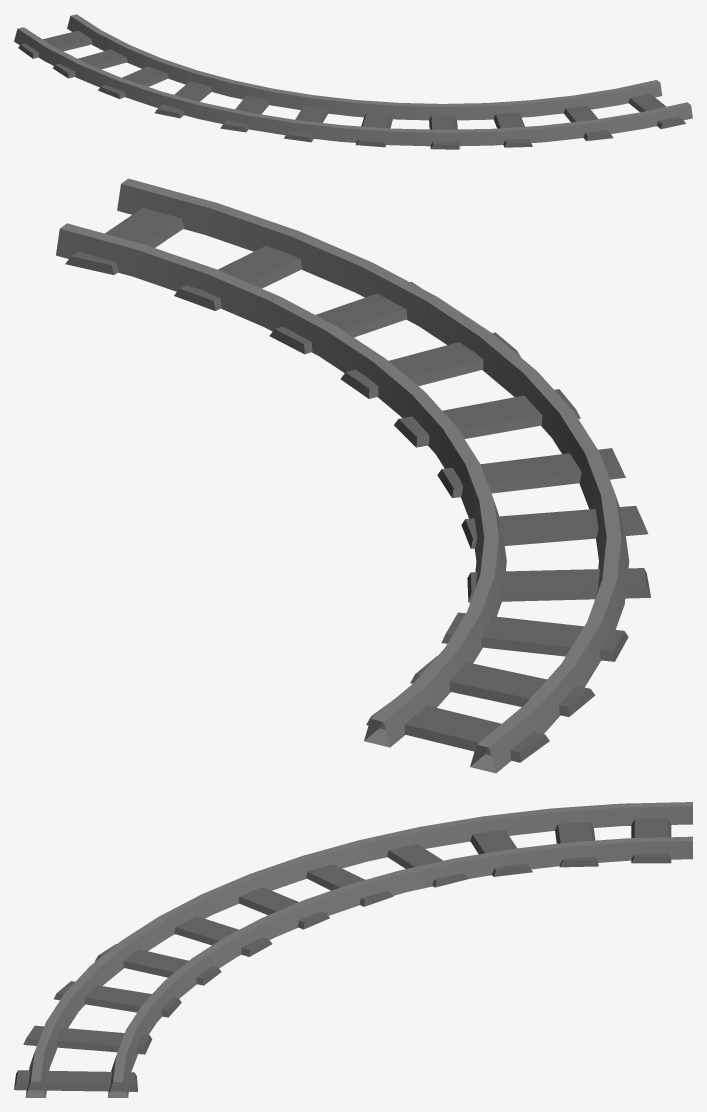
The model's file is Ray_Curve_02.fbx.
3 renders of one model, top to bottom at view 1: azimuth 30°, elevation 25°; view 2: azimuth 150°, elevation 25°; view 3: azimuth 270°, elevation 25°, orthographic. The views are drawn at different scales.
Parts seen in each view (by area): view 1: Ray_Curve_02; view 2: Ray_Curve_02; view 3: Ray_Curve_02.
Boxes of the visible parts, x1=… form: Ray_Curve_02: x1=14, y1=14, x2=692, y2=149; Ray_Curve_02: x1=56, y1=178, x2=650, y2=773; Ray_Curve_02: x1=14, y1=802, x2=692, y2=1097.
Bounding box in the file's own units: 3232 × 85.34 × 3258.
